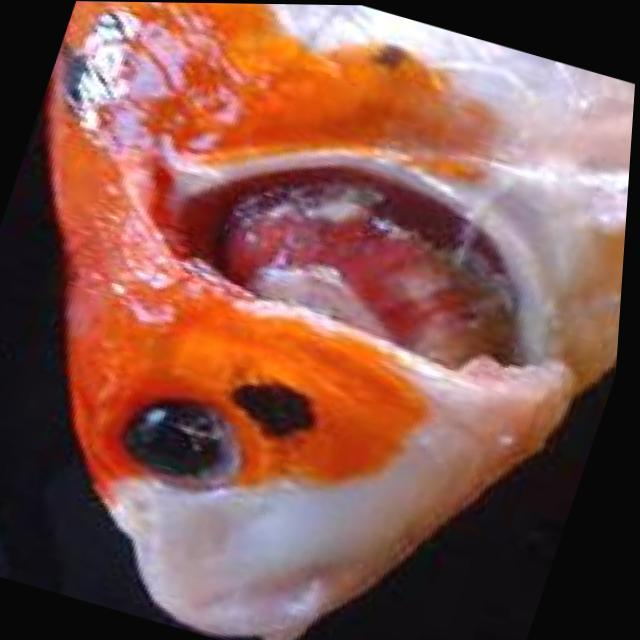Gill Disease: (65, 29, 578, 558)
